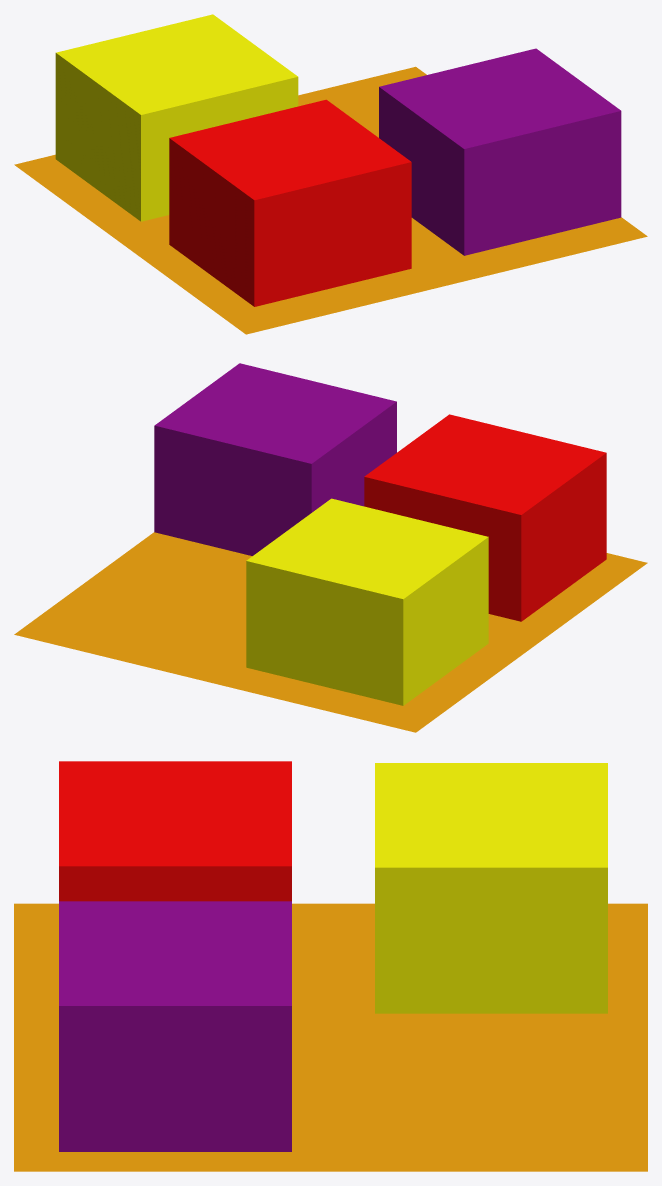
Rendered from Blocks04.fbx.
The picture shows the model from 3 angles, top to bottom: view 1: azimuth 30°, elevation 25°; view 2: azimuth 150°, elevation 25°; view 3: azimuth 270°, elevation 25°; orthographic projection. The views are drawn at different scales.
Visible parts, largest first — view 1: Cube, Cube.001, Cube.003, Grid; view 2: Cube.003, Grid, Cube.001, Cube; view 3: Grid, Cube.001, Cube.003, Cube.
Boxes of the visible parts, bbox=[...] form: Cube: bbox=[169, 99, 411, 306]; Cube.001: bbox=[379, 48, 621, 255]; Cube.003: bbox=[55, 14, 298, 221]; Grid: bbox=[14, 66, 647, 334]; Cube.003: bbox=[246, 498, 488, 705]; Grid: bbox=[14, 532, 647, 732]; Cube.001: bbox=[154, 363, 396, 555]; Cube: bbox=[364, 414, 606, 621]; Grid: bbox=[14, 903, 647, 1171]; Cube.001: bbox=[59, 901, 291, 1151]; Cube.003: bbox=[375, 763, 607, 1013]; Cube: bbox=[59, 761, 291, 901].
Size of the model in its own units: 200 by 55.24 by 200.
